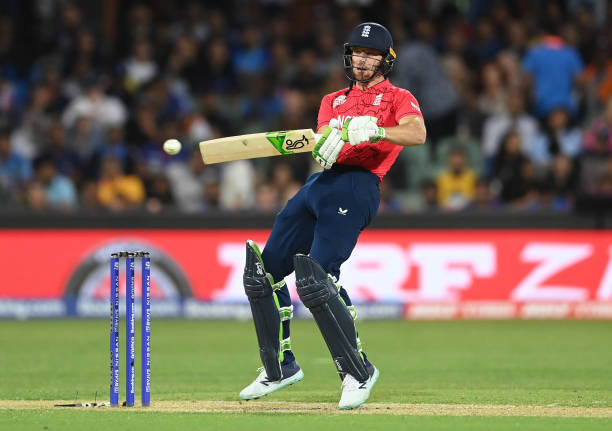bottom left: (191, 135, 211, 152)
bottom right: (196, 152, 215, 169)
top left: (304, 122, 317, 137)
top right: (305, 142, 323, 157)
